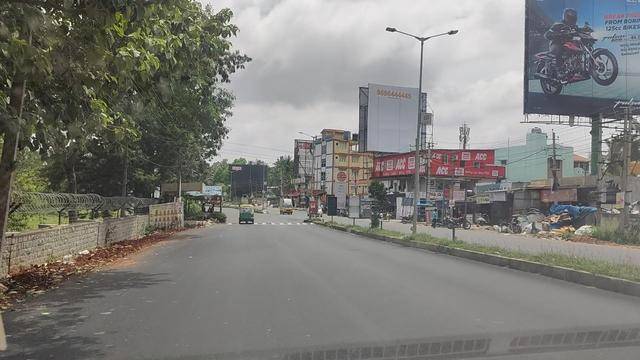LMV: (241, 204, 253, 220)
SpeedBump: (226, 219, 306, 226)
